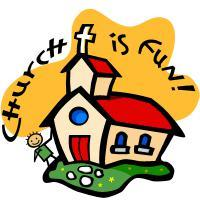person: (20, 131, 56, 164)
